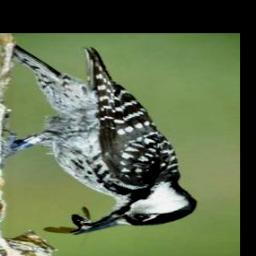Woodpecker: (12, 42, 200, 236)
